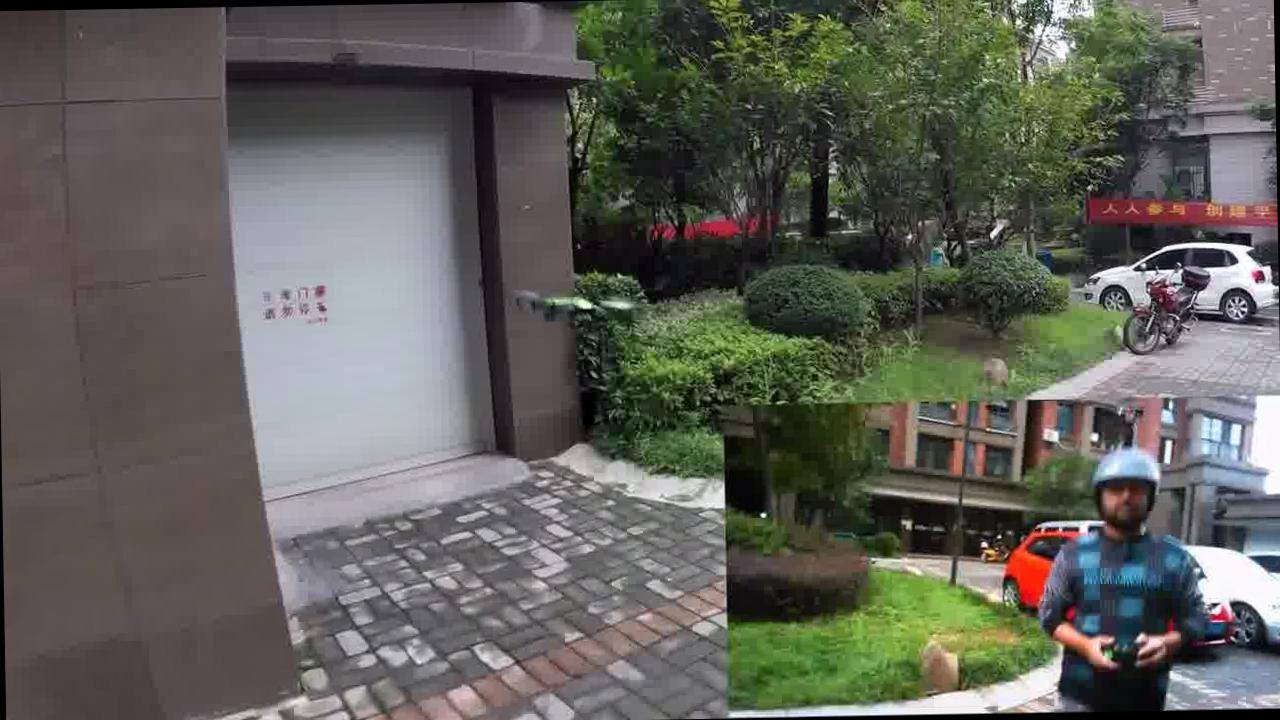drone: (498, 280, 660, 350)
